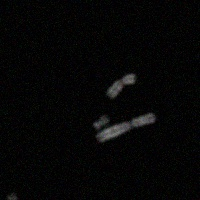chromosome: (97, 112, 157, 142), (106, 72, 135, 98), (93, 114, 108, 127), (5, 193, 18, 200)
